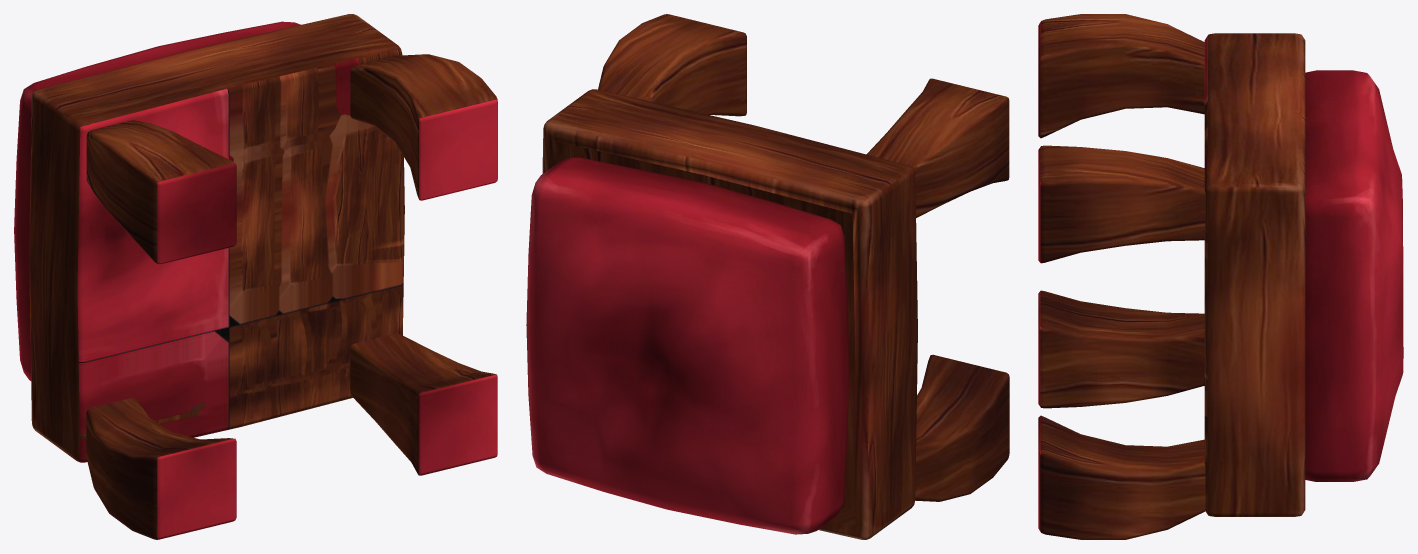
The model's file is Banquito de Escritorio Fin.FBX.
3 views of the same model, side by side, from view 1: azimuth 30°, elevation 25°; view 2: azimuth 150°, elevation 25°; view 3: azimuth 270°, elevation 25° (orthographic). The views are drawn at different scales.
Parts seen in each view (by area): view 1: Banquito de escritorio; view 2: Banquito de escritorio; view 3: Banquito de escritorio.
Part boxes in pixels (left/top/right/bottom): Banquito de escritorio: left=14, top=14, right=497, bottom=539; Banquito de escritorio: left=526, top=14, right=1009, bottom=539; Banquito de escritorio: left=1038, top=14, right=1403, bottom=539.
Size of the model in its own units: 54.06 by 54.25 by 49.59.
1 material, 1 textured.
